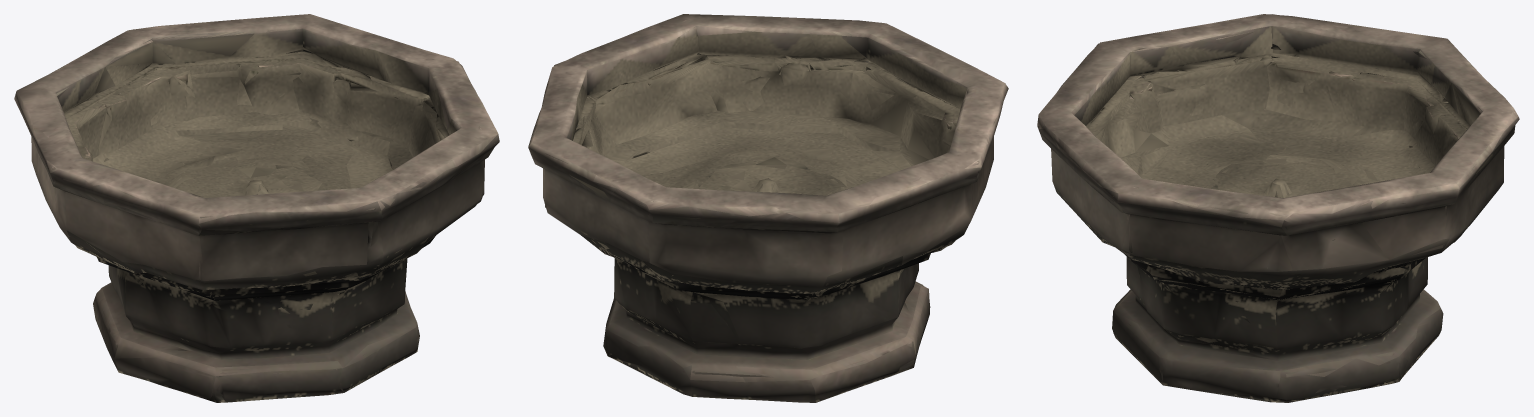
File: courtyard-fountain.glb
The picture shows the model from 3 angles, left to right: view 1: azimuth 30°, elevation 25°; view 2: azimuth 150°, elevation 25°; view 3: azimuth 270°, elevation 25°; orthographic projection.
Visible parts, largest first — view 1: courtyard_fountain; view 2: courtyard_fountain; view 3: courtyard_fountain.
Boxes of the visible parts, box(x1,y1,x2,y2) form: courtyard_fountain: box(14, 14, 499, 402); courtyard_fountain: box(528, 14, 1008, 402); courtyard_fountain: box(1037, 14, 1519, 402).
Bounding box in the file's own units: 2.26 × 1.15 × 2.25.
1 material, 1 textured.
